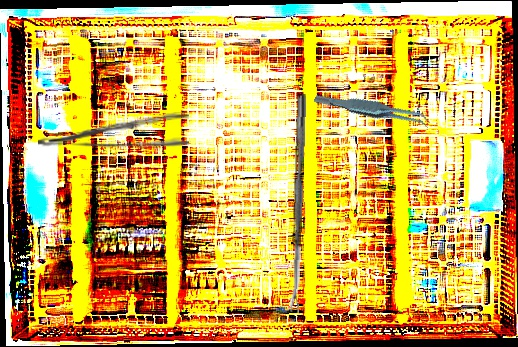Dressing Forceps: (38, 112, 189, 148)
Surgical Spoon: (288, 93, 307, 313)
Tissue Forceps: (313, 71, 432, 149)
